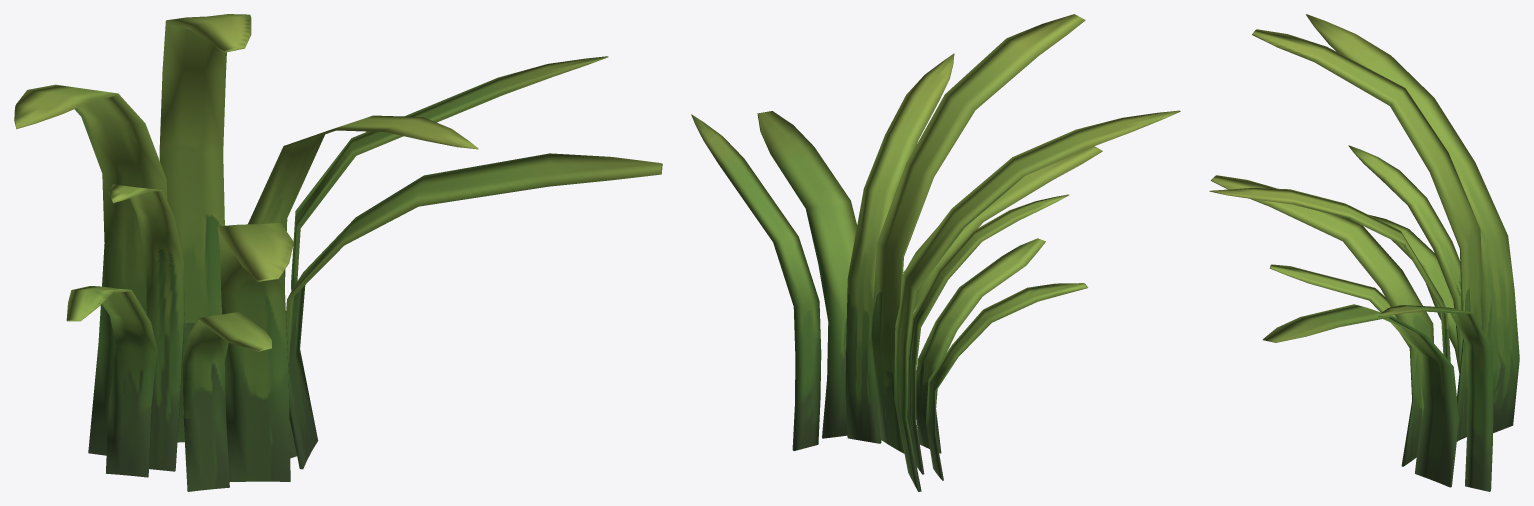
File: grass_4(M).fbx
The picture shows the model from 3 angles, left to right: view 1: azimuth 30°, elevation 25°; view 2: azimuth 150°, elevation 25°; view 3: azimuth 270°, elevation 25°; orthographic projection. The views are drawn at different scales.
Visible parts, largest first — view 1: main_2.012; view 2: main_2.012; view 3: main_2.012.
Boxes of the visible parts, left/top/right/bottom form: main_2.012: left=14, top=14, right=662, bottom=491; main_2.012: left=691, top=14, right=1180, bottom=491; main_2.012: left=1209, top=14, right=1519, bottom=491.
Size of the model in its own units: 34.95 by 28.57 by 21.13.
